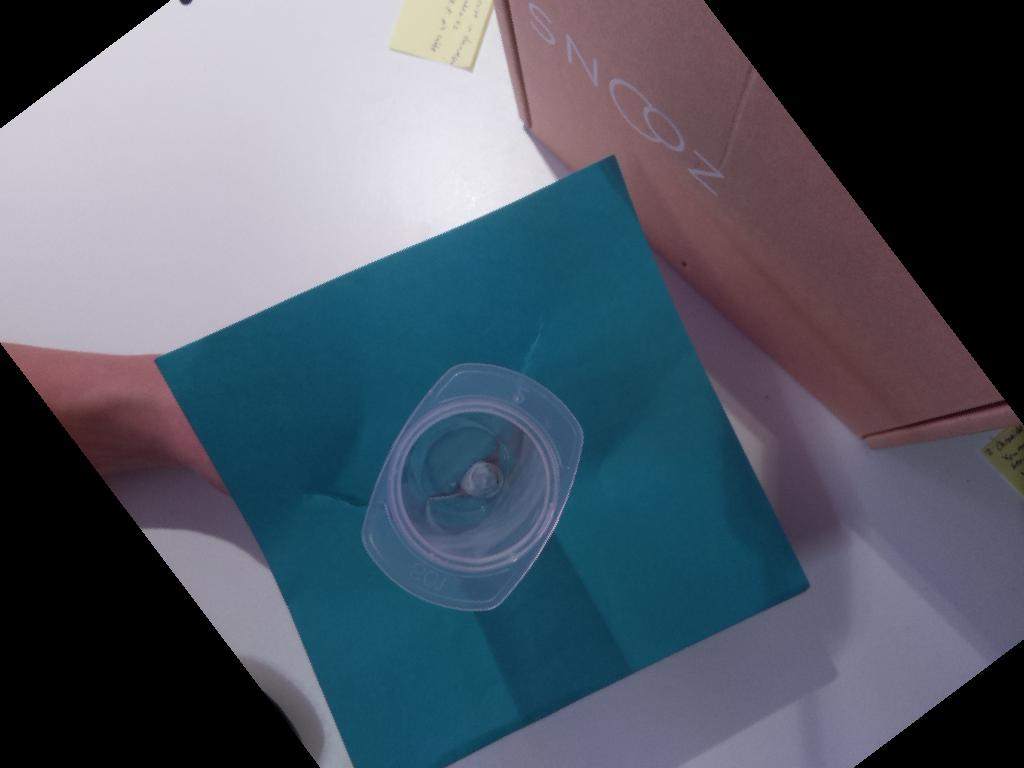clean: (357, 359, 590, 615)
